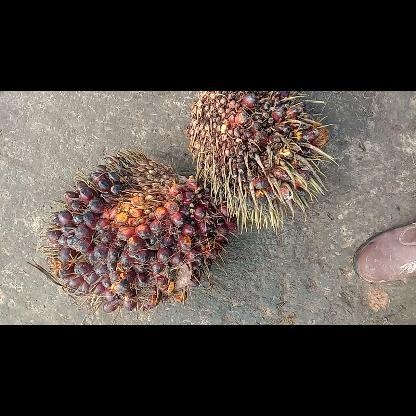Kurang masak: (40, 148, 236, 314)
TBS abnormal: (185, 90, 337, 233)
